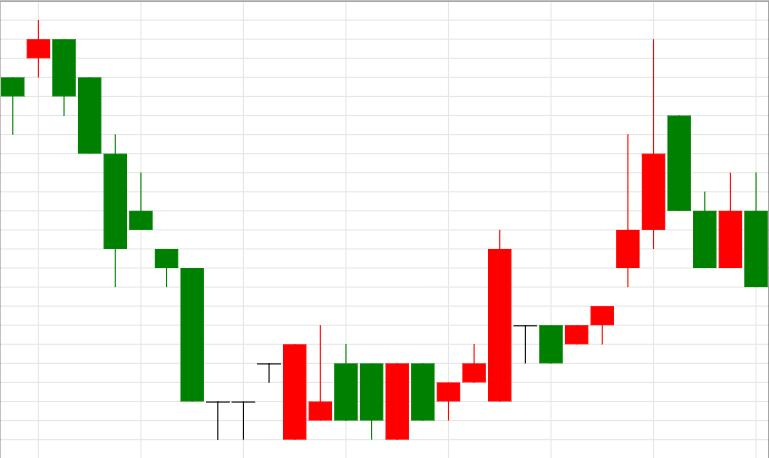shooting_star_fall: (539, 134, 640, 363)
